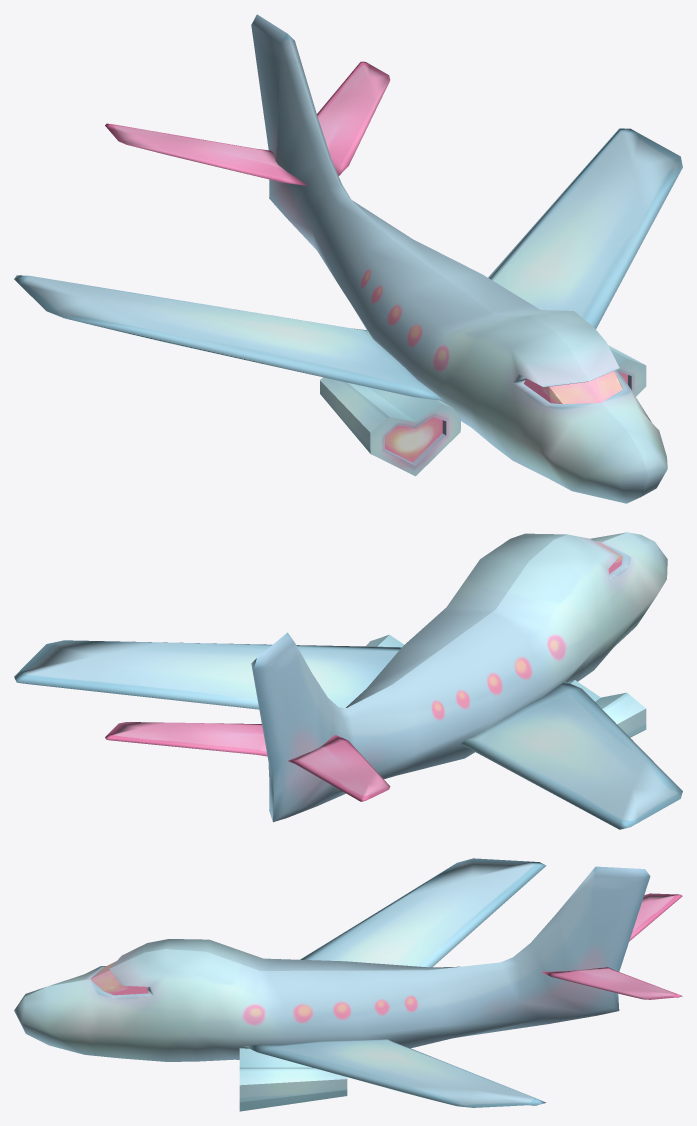
File: airplane_v1.fbx
3 views of the same model, one above another, from view 1: azimuth 30°, elevation 25°; view 2: azimuth 150°, elevation 25°; view 3: azimuth 270°, elevation 25° (orthographic). The views are drawn at different scales.
Visible parts, largest first — view 1: main, pPlane6, pPlane8, polySurface2, pPlane7, pPlane9, effe3, effe4, polySurface1; view 2: main, pPlane6, pPlane8, pPlane7, pPlane9, polySurface2; view 3: main, pPlane8, pPlane6, polySurface1, pPlane7, pPlane9, effe3.
Part boxes in pixels (<box>): main: <box>251,14,667,503</box>; pPlane6: <box>488,128,682,328</box>; pPlane8: <box>14,275,444,400</box>; polySurface2: <box>320,377,460,476</box>; pPlane7: <box>317,61,390,175</box>; pPlane9: <box>105,123,307,185</box>; effe3: <box>523,371,622,404</box>; effe4: <box>385,417,442,462</box>; polySurface1: <box>608,345,646,396</box>; main: <box>251,532,667,822</box>; pPlane6: <box>14,640,401,709</box>; pPlane8: <box>459,681,682,829</box>; pPlane7: <box>105,722,267,756</box>; pPlane9: <box>288,735,390,801</box>; polySurface2: <box>568,680,646,737</box>; main: <box>14,866,650,1061</box>; pPlane8: <box>300,858,546,967</box>; pPlane6: <box>245,1039,546,1107</box>; polySurface1: <box>239,1048,347,1111</box>; pPlane7: <box>541,967,682,999</box>; pPlane9: <box>629,893,682,941</box>; effe3: <box>90,961,148,995</box>.
Size of the model in its own units: 1862 by 726 by 2109.
